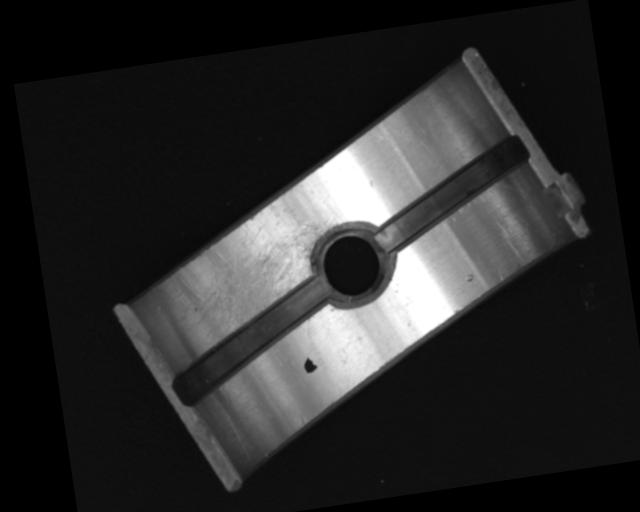blot: (301, 354, 319, 375)
bruise: (463, 271, 475, 283)
gap: (163, 275, 339, 406), (364, 133, 536, 249)
hole: (309, 219, 393, 307)
scratch: (164, 181, 354, 343)
